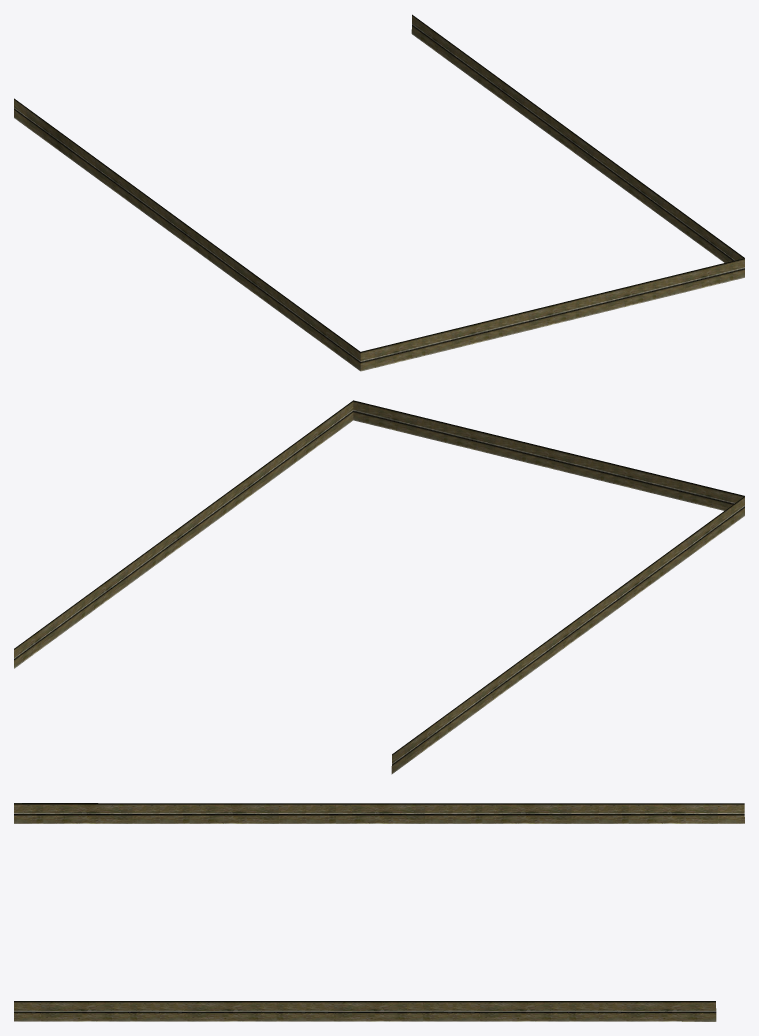
Rendered from CH09_SMAUG_PLAYSURFACE_LAIR96.obj.
The picture shows the model from 3 angles, top to bottom: view 1: azimuth 30°, elevation 25°; view 2: azimuth 150°, elevation 25°; view 3: azimuth 270°, elevation 25°; orthographic projection. The views are drawn at different scales.
Visible parts, largest first — view 1: lair96; view 2: lair96; view 3: lair96.
Boxes of the visible parts, box(x1,y1,x2,y2) form: lair96: box(14, 14, 744, 371); lair96: box(14, 400, 744, 774); lair96: box(14, 803, 744, 1021).
Size of the model in its own units: 1577 by 77.98 by 2464.
